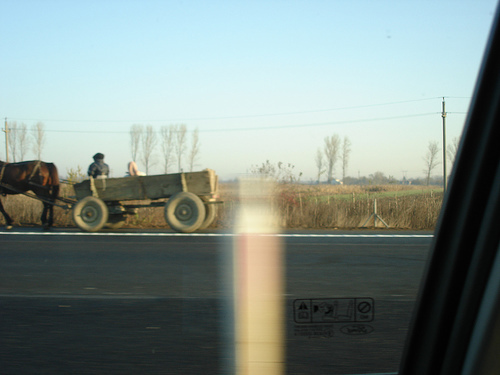horse: (1, 158, 60, 230)
